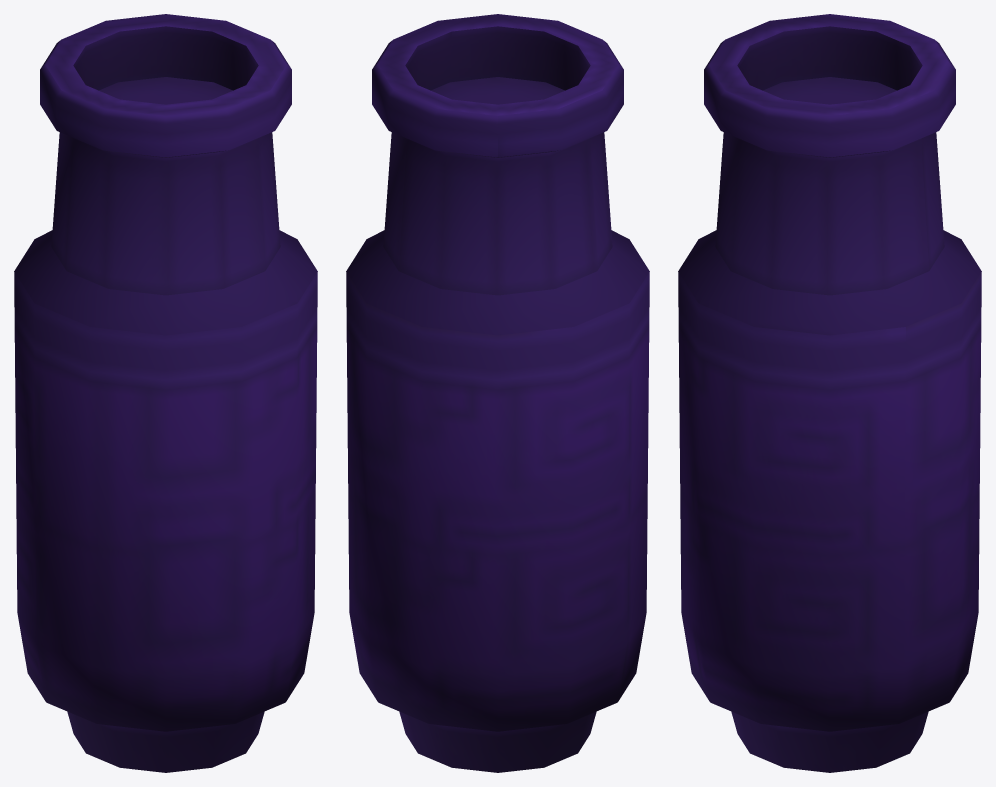
The model's file is Pot2.FBX.
3 renders of one model, left to right at view 1: azimuth 30°, elevation 25°; view 2: azimuth 150°, elevation 25°; view 3: azimuth 270°, elevation 25°, orthographic.
Visible parts, largest first — view 1: Pot2; view 2: Pot2; view 3: Pot2.
Boxes of the visible parts, x1,y1,x2,y2 form: Pot2: [14, 14, 317, 772]; Pot2: [346, 14, 649, 772]; Pot2: [678, 14, 981, 772].
Bounding box in the file's own units: 0.5712 × 1.39 × 0.5712.
